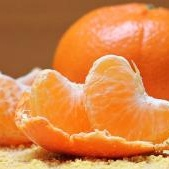mandarin: (53, 3, 169, 102), (82, 55, 169, 144), (28, 70, 96, 136), (1, 65, 45, 148)
